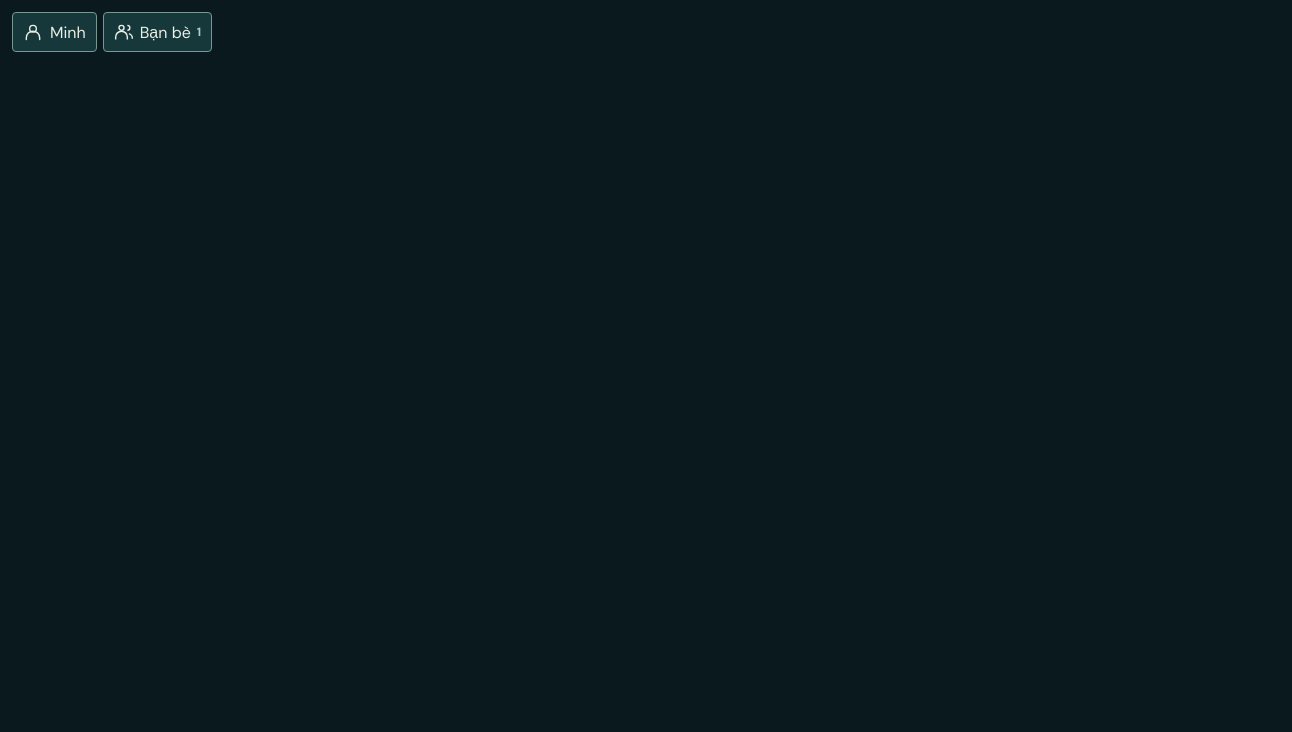
it: player code and online friends › keeps inside interactions open and dismisses the panel on an outside pointer
Later steps or results of the test are not shown.
Click the button with aria-label "Bạn bè, 1 người online": (157, 32) [103, 12, 212, 52]
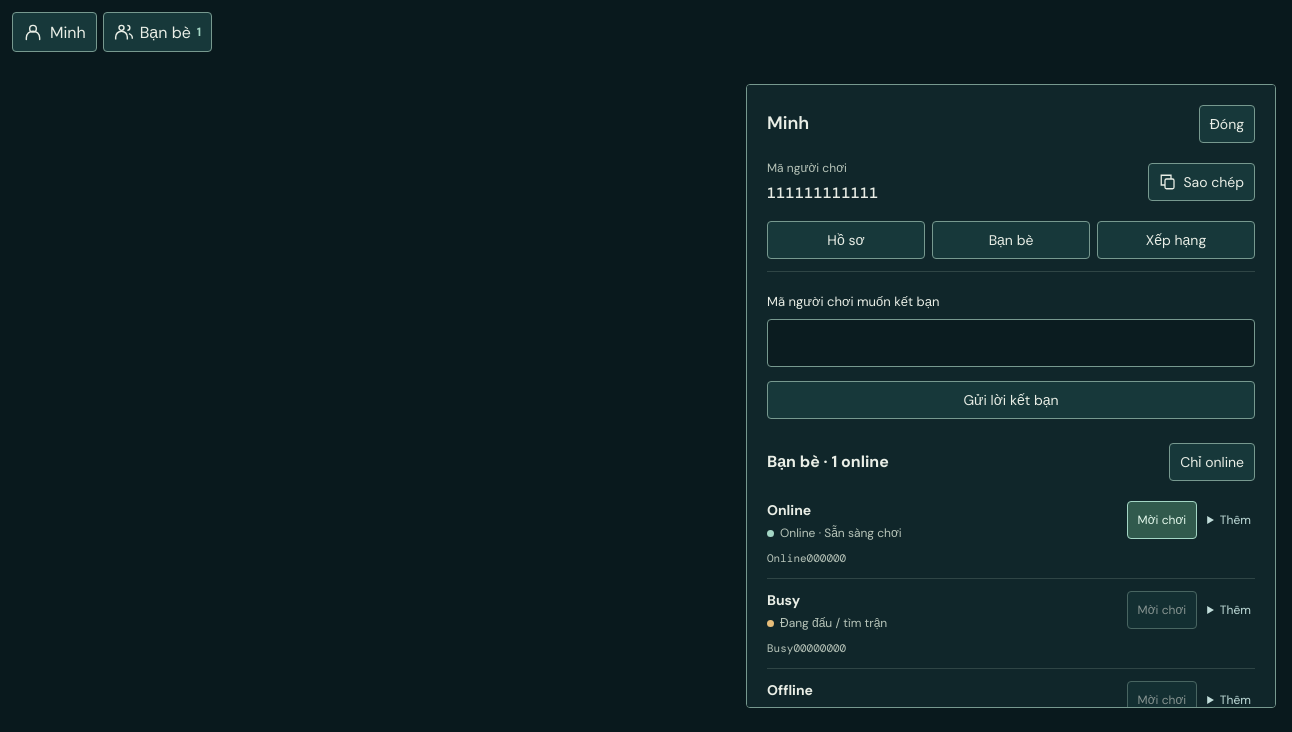
Press the mouse on the button "Chỉ online": (1212, 462) [1169, 443, 1255, 481]
Check: the element named "Tài khoản và bạn bè" is shown, box [746, 84, 1276, 708]
